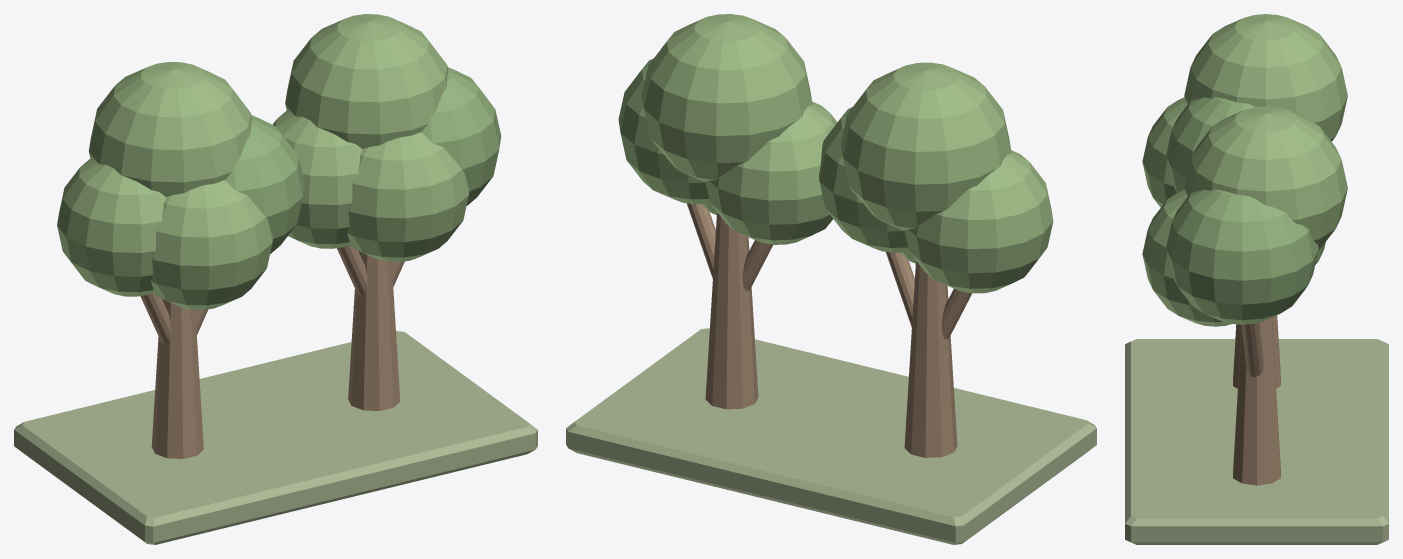
File: orchard_tree.glb
3 views of the same model, side by side, from view 1: azimuth 30°, elevation 25°; view 2: azimuth 150°, elevation 25°; view 3: azimuth 270°, elevation 25° (orthographic). The views are drawn at different scales.
Parts seen in each view (by area): view 1: orchard_tree; view 2: orchard_tree; view 3: orchard_tree.
Part boxes in pixels (box(x1,y1,x2,y2)): orchard_tree: box(14, 14, 537, 544); orchard_tree: box(566, 14, 1096, 544); orchard_tree: box(1125, 14, 1388, 544).
Size of the model in its own units: 2.55 by 2.35 by 1.45.
